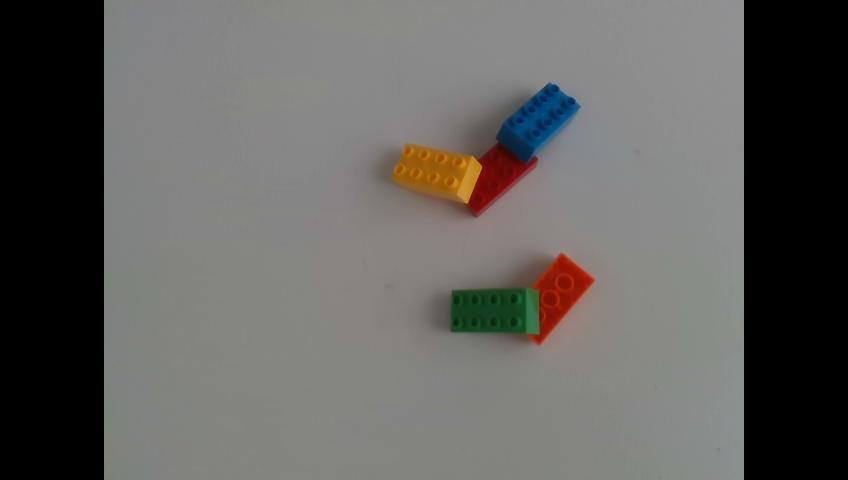4x2_blue: (497, 81, 580, 161)
4x2_green: (451, 288, 539, 332)
4x2_orange: (527, 252, 598, 346), (466, 141, 540, 216)
4x2_yellow: (395, 144, 479, 201)
